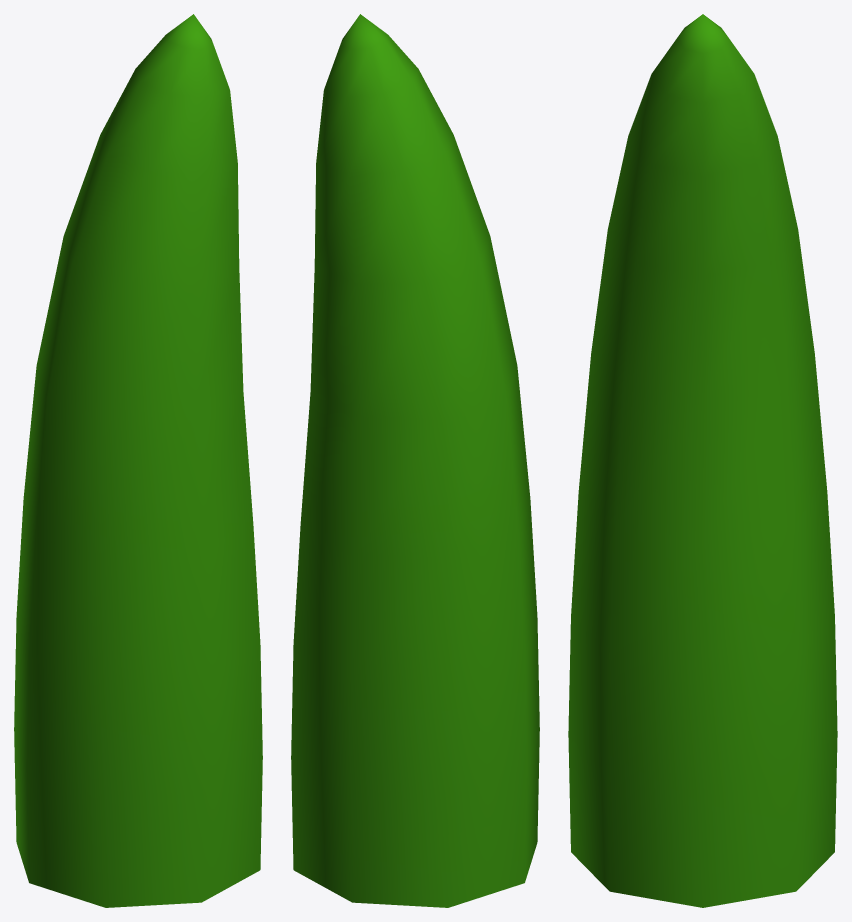
3 renders of one model, left to right at view 1: azimuth 30°, elevation 25°; view 2: azimuth 150°, elevation 25°; view 3: azimuth 270°, elevation 25°, orthographic. The views are drawn at different scales.
Parts seen in each view (by area): view 1: co; view 2: co; view 3: co.
Part boxes in pixels (x1,y1,x2,y2): co: [14, 14, 262, 907]; co: [291, 14, 539, 907]; co: [568, 14, 837, 907].
Size of the model in its own units: 45.65 by 162 by 45.65.
